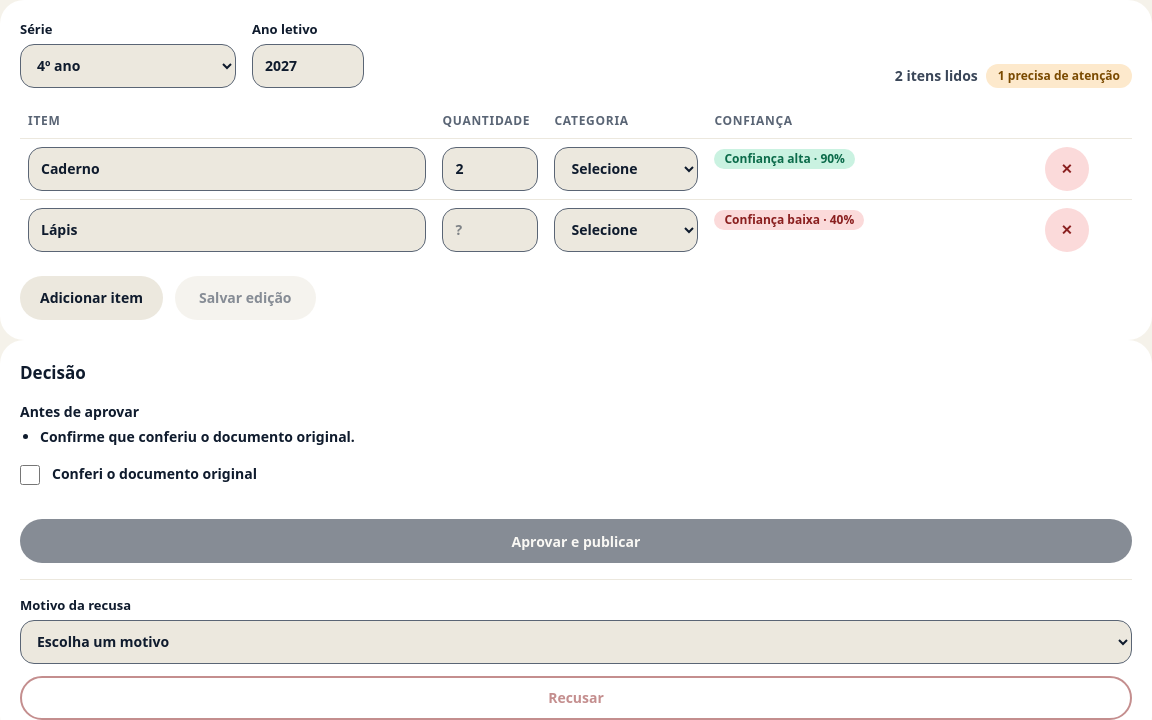
Test: DecisionPanel › com alerta crítico, a confirmação é obrigatória e é enviada
Check: the button "Aprovar e publicar" is disabled, box [20,519,1132,563]
Click the checkbox labelled "Conferi o documento original": (30, 475) [20,465,40,485]
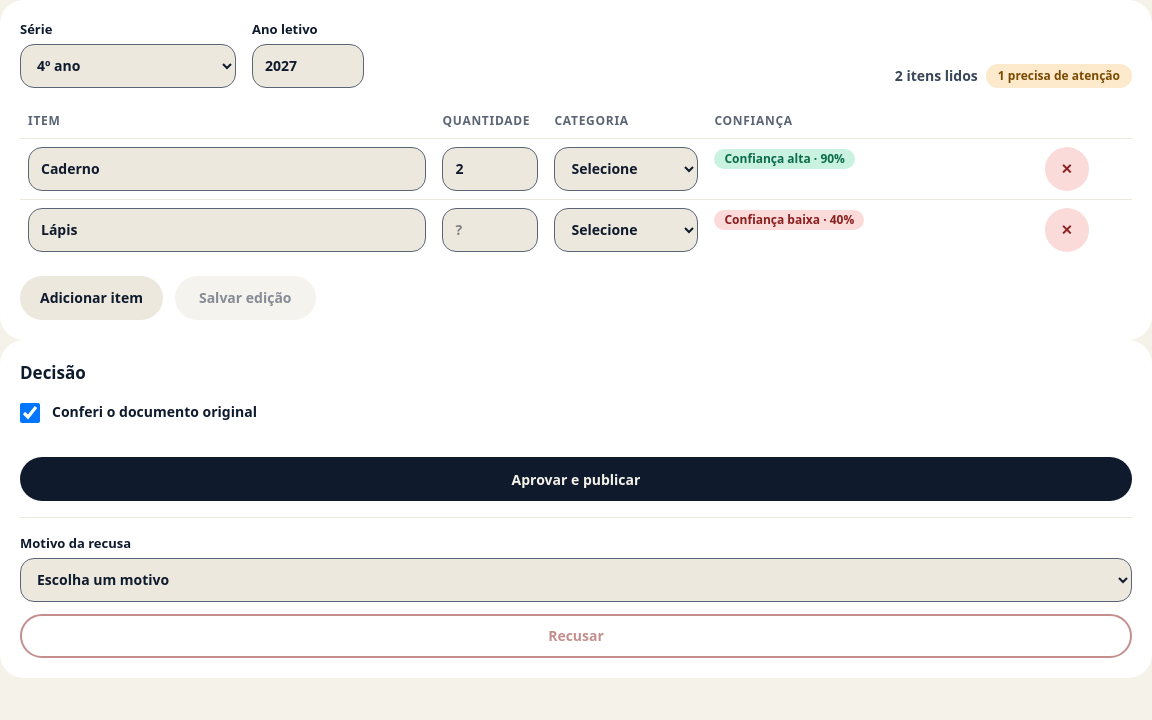
Check: the button "Aprovar e publicar" is enabled
Click the button "Aprovar e publicar": (576, 479) [20,457,1132,501]
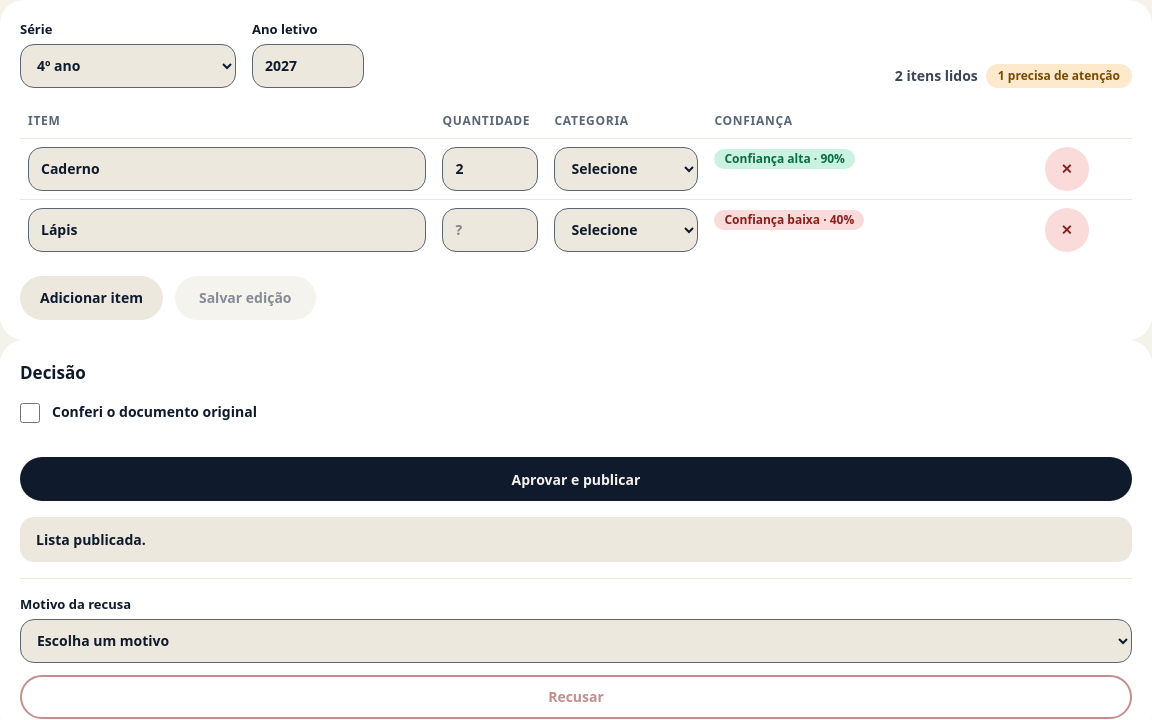
Check: the message reads "Lista publicada.", box [36,530,146,549]
